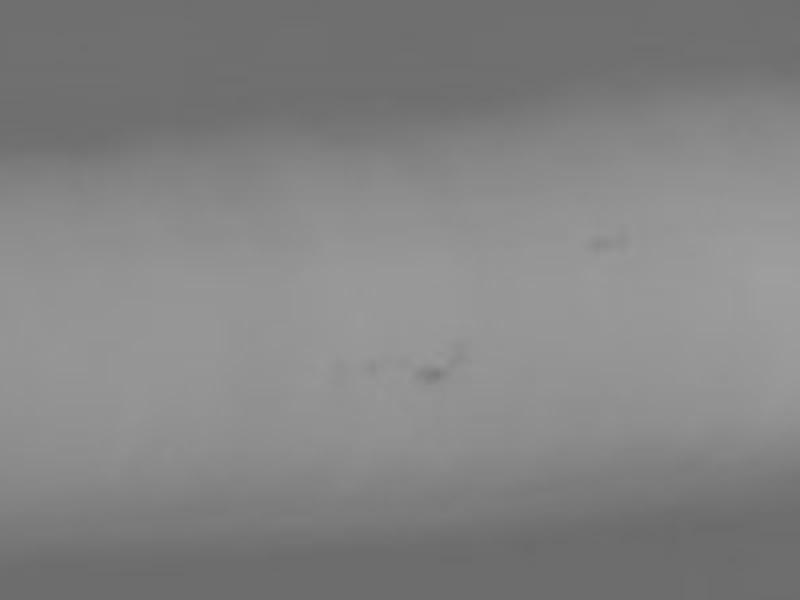defect: (412, 365, 446, 387), (447, 342, 472, 365), (591, 231, 616, 249)
